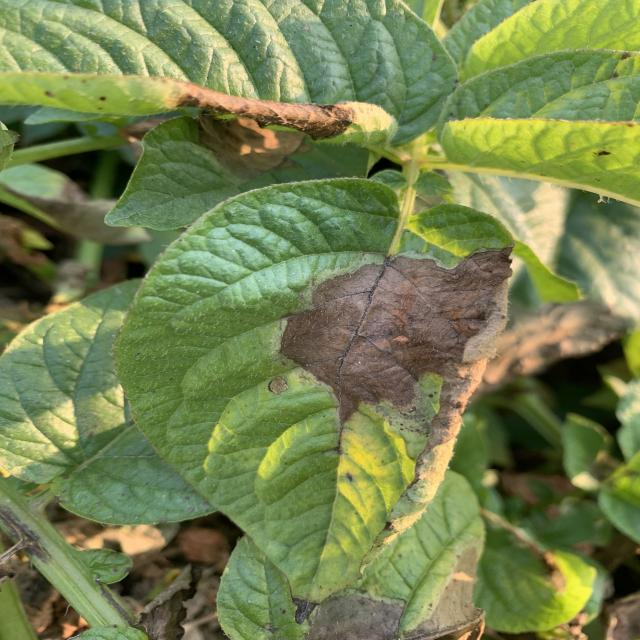lateblight: (280, 249, 512, 444), (143, 78, 353, 139), (198, 115, 305, 176)
